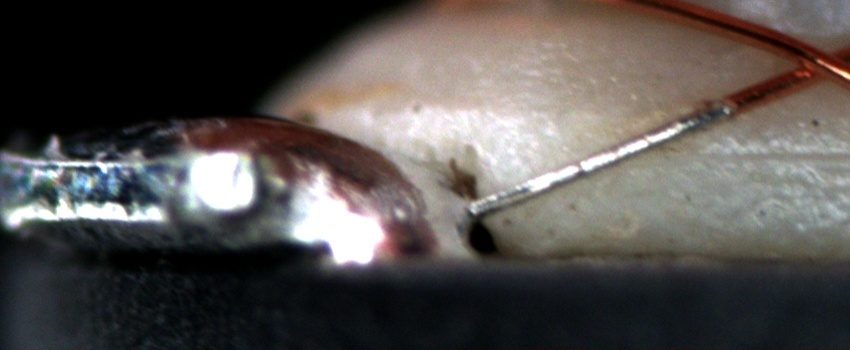CL: (773, 35, 847, 89)
DL: (704, 123, 850, 183)
TS: (466, 105, 729, 216)
